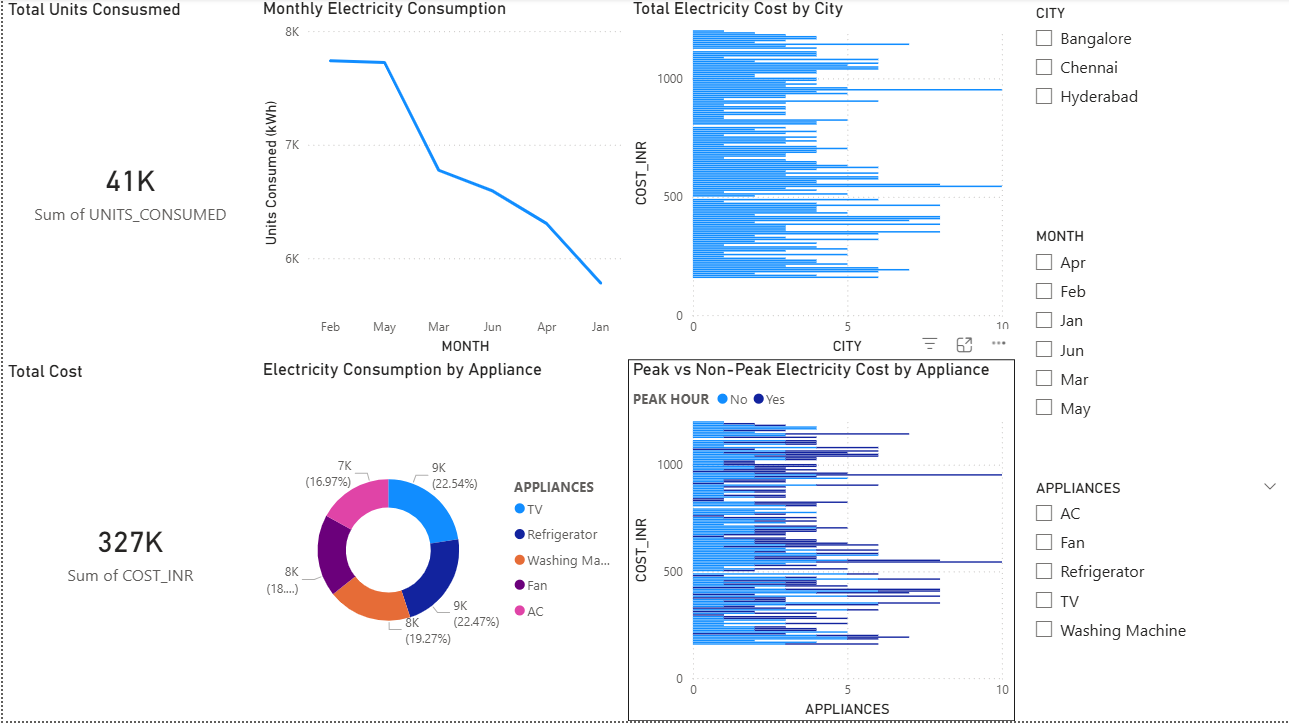

What the dashboard file says about the page in this screenshot:
{"tool":"powerbi","page":{"name":"Page 1","canvas":[1280,720],"ordinal":0},"visuals":[{"type":"lineChart","title":"Monthly Electricity Consumption","fields":{"Category":["electricity_data.MONTH"],"Y":["Sum(electricity_data.UNITS_CONSUMED)"]},"box":[253.9,0,367.8,359.5],"z":0},{"type":"clusteredBarChart","title":"Total Electricity Cost by City","fields":{"Category":["electricity_data.COST_INR"],"Y":["CountNonNull(electricity_data.CITY)"]},"box":[621.6,0,384.2,359.5],"z":1000},{"type":"donutChart","title":"Electricity Consumption by Appliance","fields":{"Category":["electricity_data.APPLIANCES"],"Y":["Sum(electricity_data.UNITS_CONSUMED)"]},"box":[253.9,359.5,367.8,360.9],"z":2000},{"type":"barChart","title":"Peak vs Non-Peak Electricity Cost by Appliance","fields":{"Y":["CountNonNull(electricity_data.APPLIANCES)"],"Category":["electricity_data.COST_INR"],"Series":["electricity_data.PEAK HOUR"]},"box":[621.6,359.5,384.2,360.9],"z":3000},{"type":"card","title":"Total Units Consusmed","fields":{"Values":["Sum(electricity_data.UNITS_CONSUMED)"]},"box":[0,1.4,253.9,359.5],"z":4000},{"type":"card","title":"Total Cost","fields":{"Values":["Sum(electricity_data.COST_INR)"]},"box":[0,361,254,359],"z":5000},{"type":"slicer","fields":{"Values":["electricity_data.CITY"]},"box":[1015.4,1.4,264.8,222.3],"z":6000},{"type":"slicer","fields":{"Values":["electricity_data.MONTH"]},"box":[1015.4,223.7,264.8,249.7],"z":7000},{"type":"slicer","fields":{"Values":["electricity_data.APPLIANCES"]},"box":[1015.4,473.4,264.8,247],"z":8000}]}

Visuals, with their boxes in screenshot pixels (x1, y1, x2, y2), scaled from the page's 1280x720 canvas onto the 1289x724 screenshot:
"Monthly Electricity Consumption" lineChart: x1=256 y1=0 x2=626 y2=361
"Total Electricity Cost by City" clusteredBarChart: x1=626 y1=0 x2=1013 y2=361
"Electricity Consumption by Appliance" donutChart: x1=256 y1=361 x2=626 y2=723
"Peak vs Non-Peak Electricity Cost by Appliance" barChart: x1=626 y1=361 x2=1013 y2=723
"Total Units Consusmed" card: x1=0 y1=1 x2=256 y2=363
"Total Cost" card: x1=0 y1=363 x2=256 y2=723
slicer - electricity_data.CITY: x1=1023 y1=1 x2=1288 y2=225
slicer - electricity_data.MONTH: x1=1023 y1=225 x2=1288 y2=476
slicer - electricity_data.APPLIANCES: x1=1023 y1=476 x2=1288 y2=723
